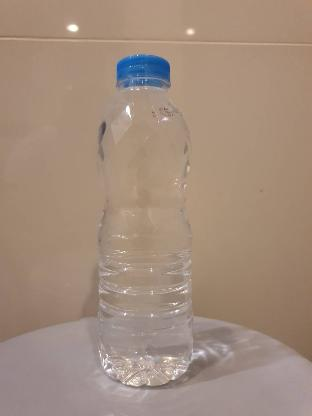Plastic Bottle: (96, 53, 194, 387)
